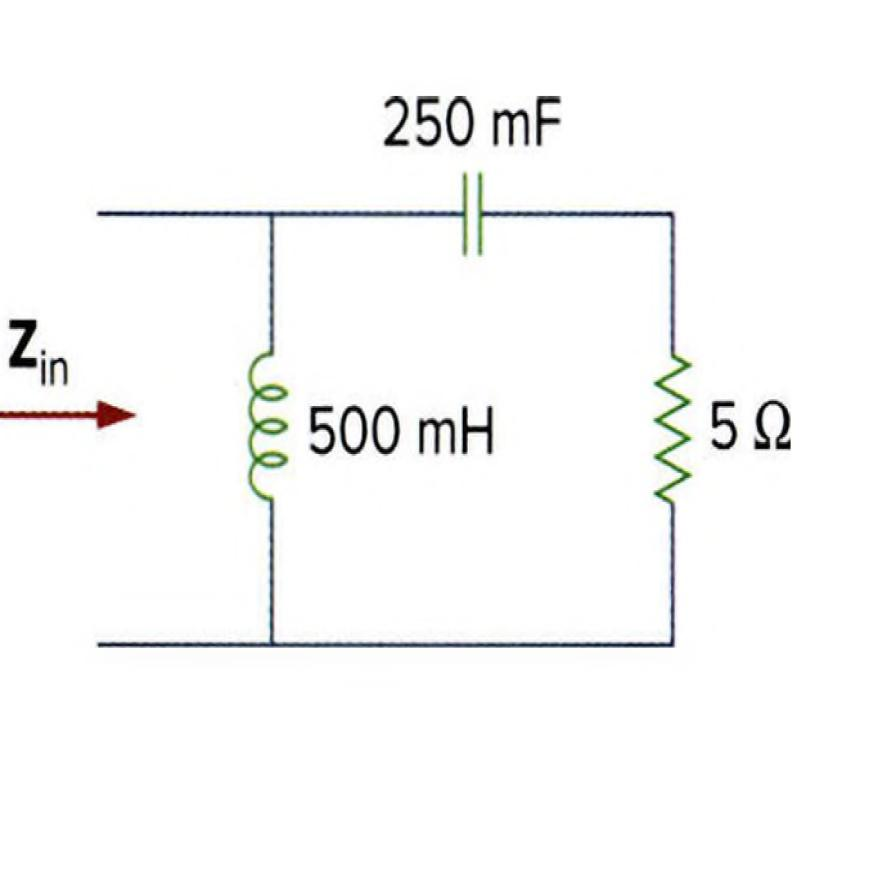C1: (434, 152, 509, 270)
L2: (237, 339, 298, 513)
